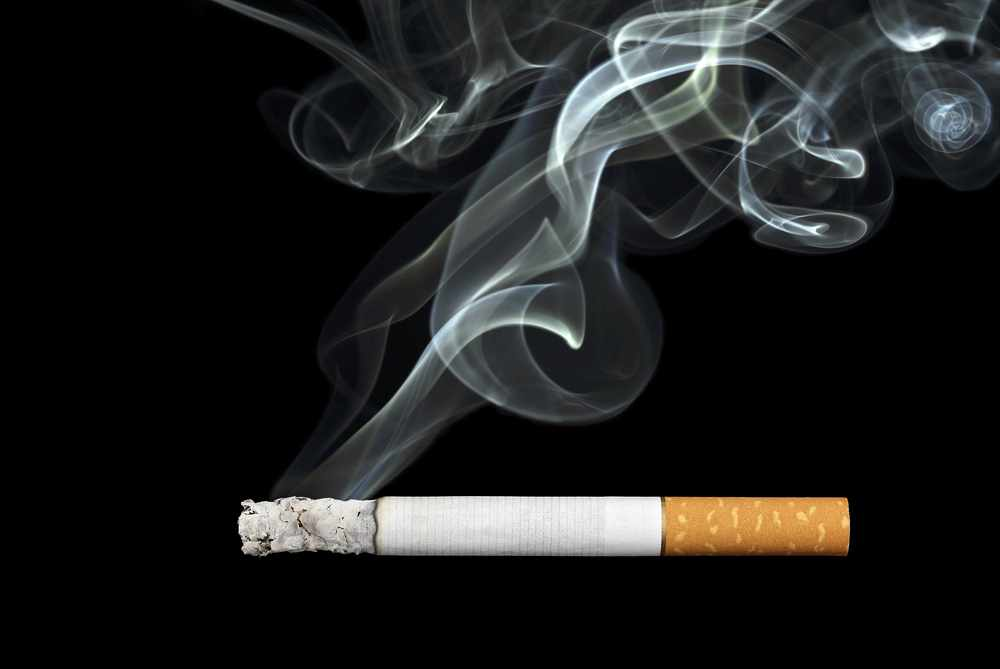cigarette: (236, 482, 858, 570)
